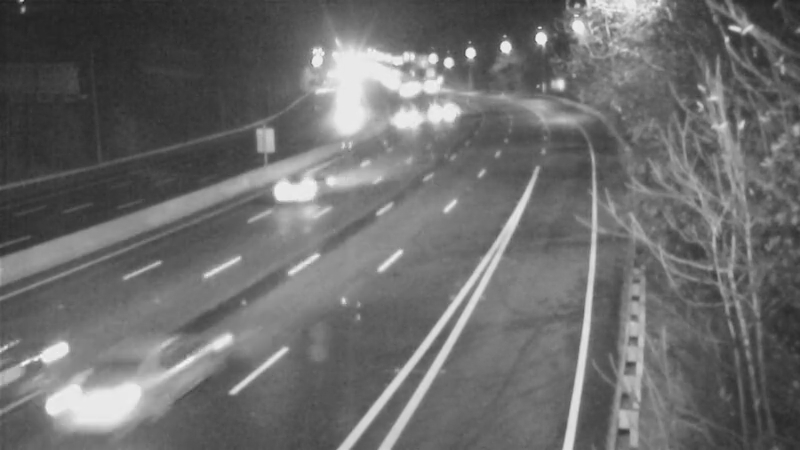vehicle: (50, 339, 160, 449), (259, 151, 339, 231), (407, 64, 457, 114), (383, 66, 433, 116), (419, 85, 469, 135), (385, 95, 435, 145), (319, 77, 369, 127)
